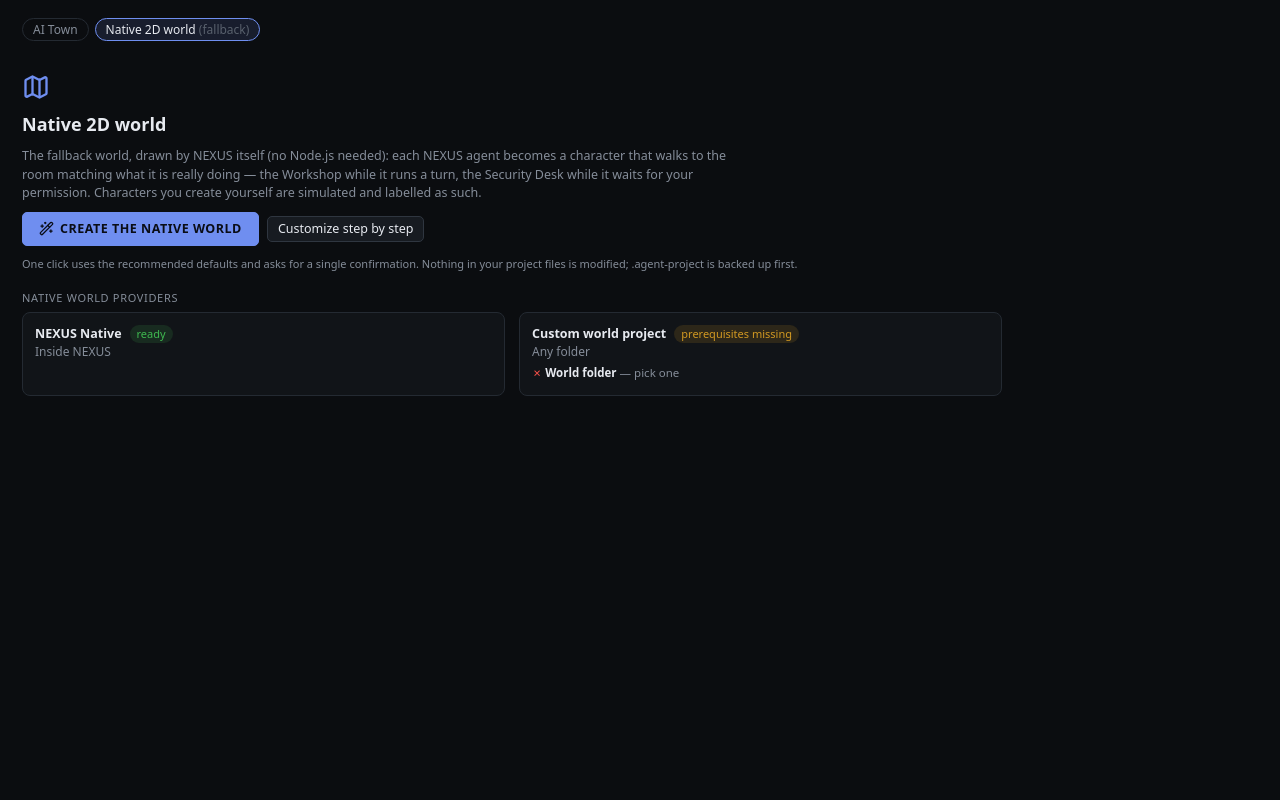
Test: AiWorldView: native fallback › one click pre-fills the recommended world, then creates it on confirmation
The image size is (1280, 800).
Click the button "CREATE THE NATIVE WORLD".
click(140, 229)  # box [22,212,259,246]
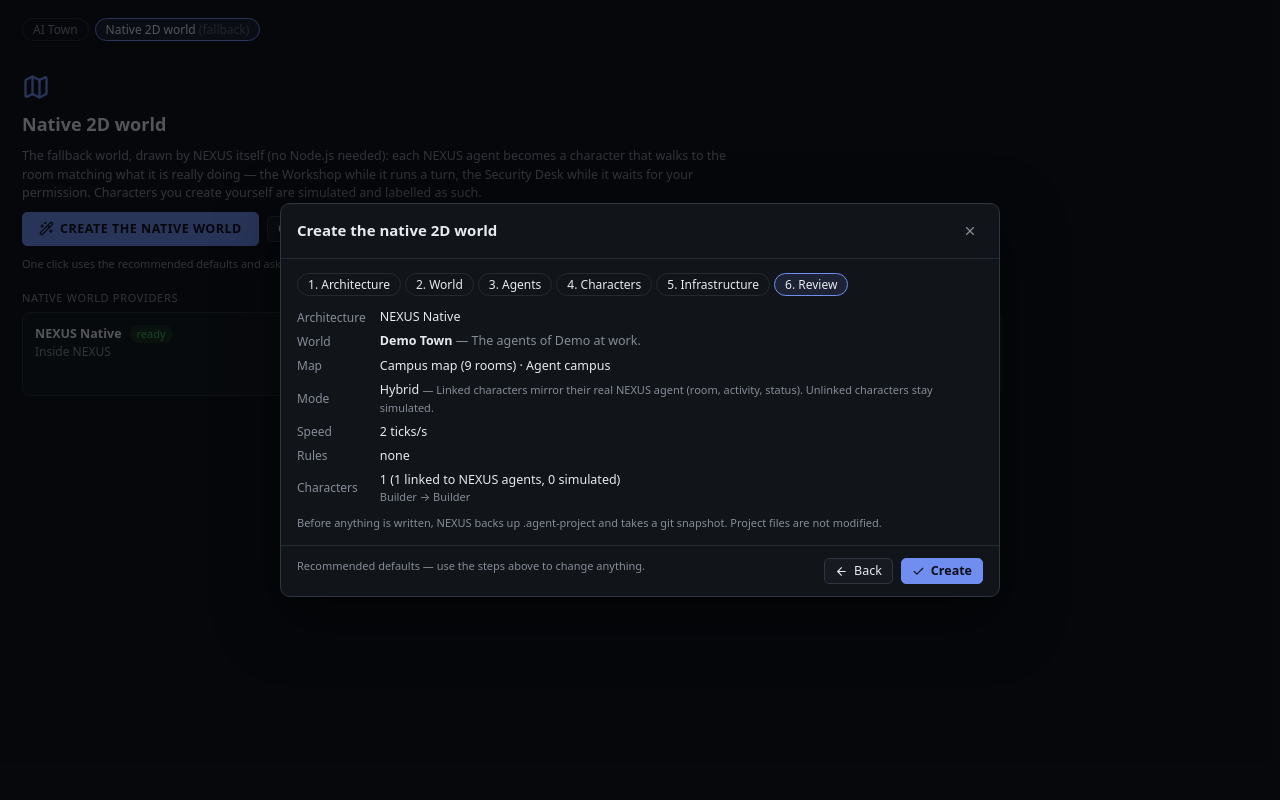
expect the text "1 (1 linked to NEXUS agents, 0 simulated) Builder → Builder" is shown: met, box [380,471,620,504]
Click the button "Create".
click(942, 571)  # box [901,558,983,584]
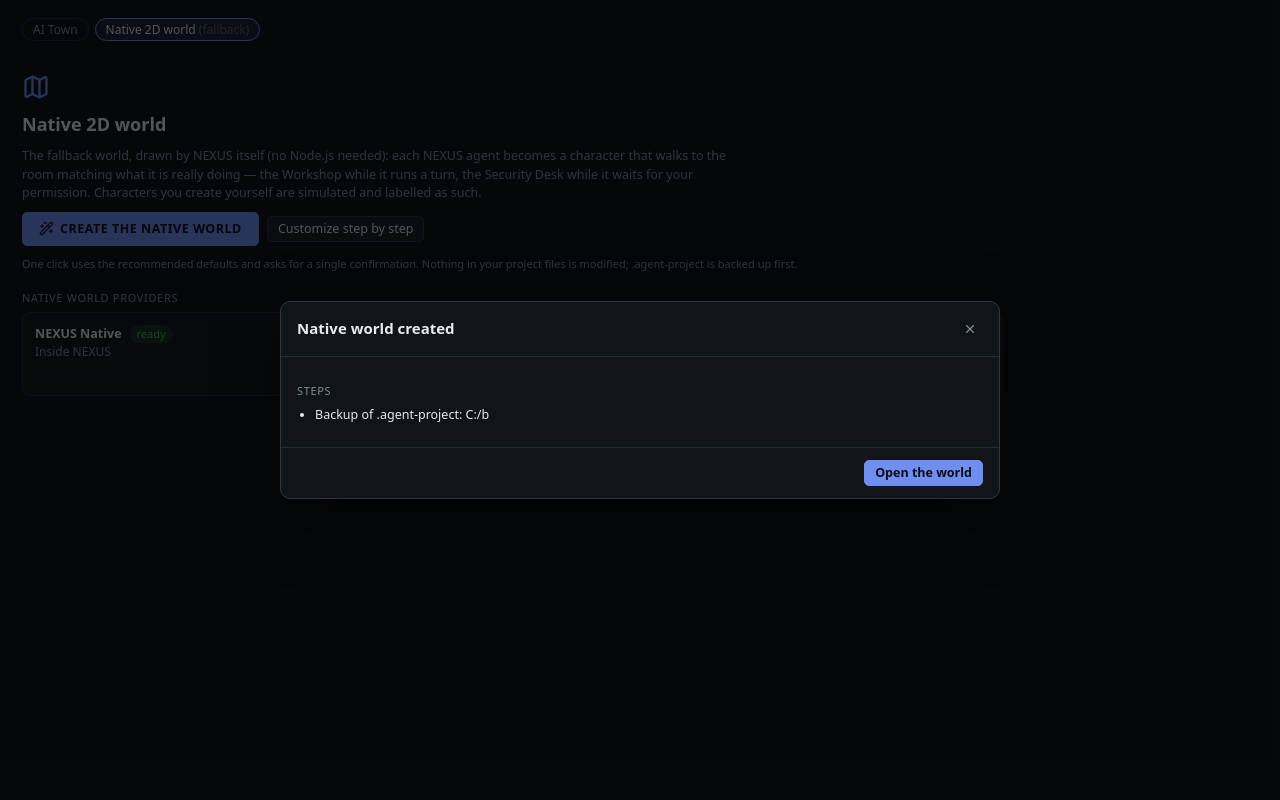
expect the list item "Backup of .agent-project: C:/b" is shown: met, box [315,406,489,423]
Click the button "Open the world".
click(924, 473)  # box [864,460,983,486]
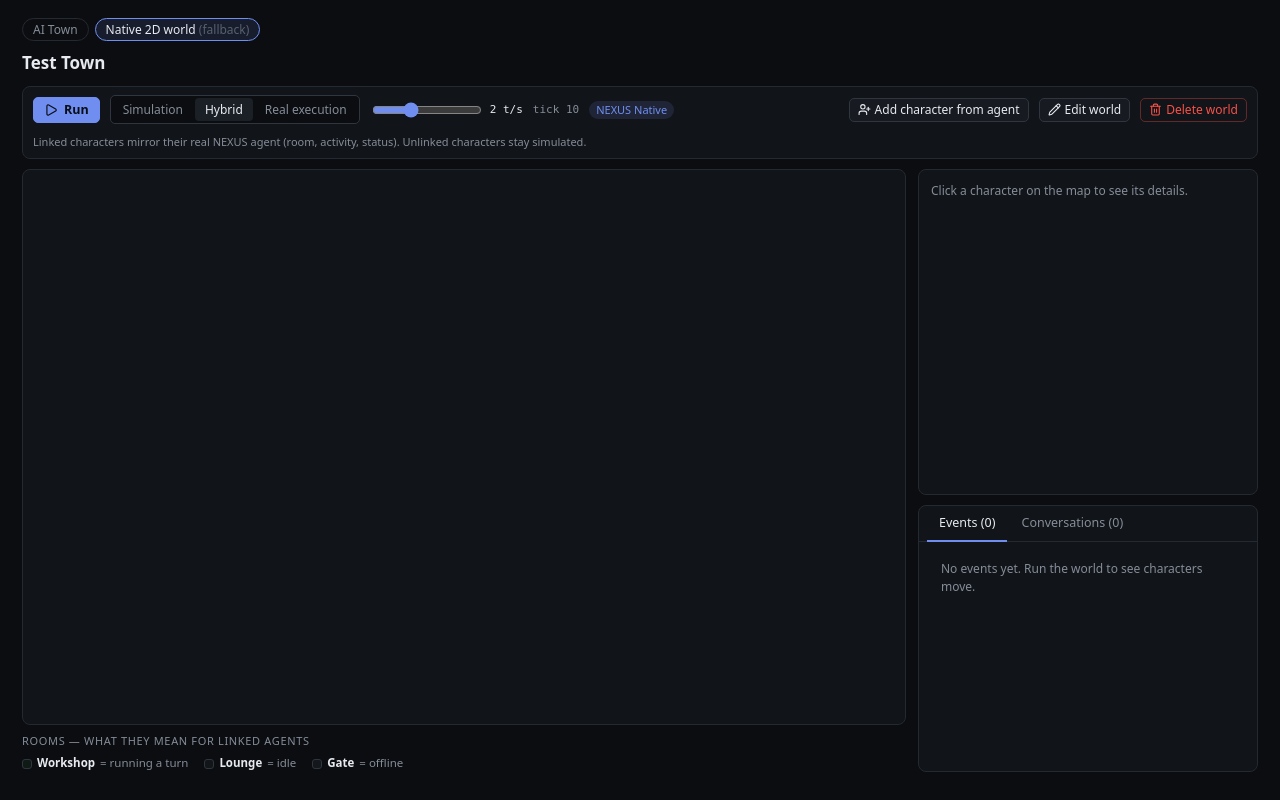
expect the heading "Test Town" is shown: met, box [22,51,106,76]
